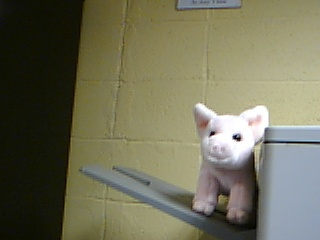piggy: (190, 101, 270, 226)
